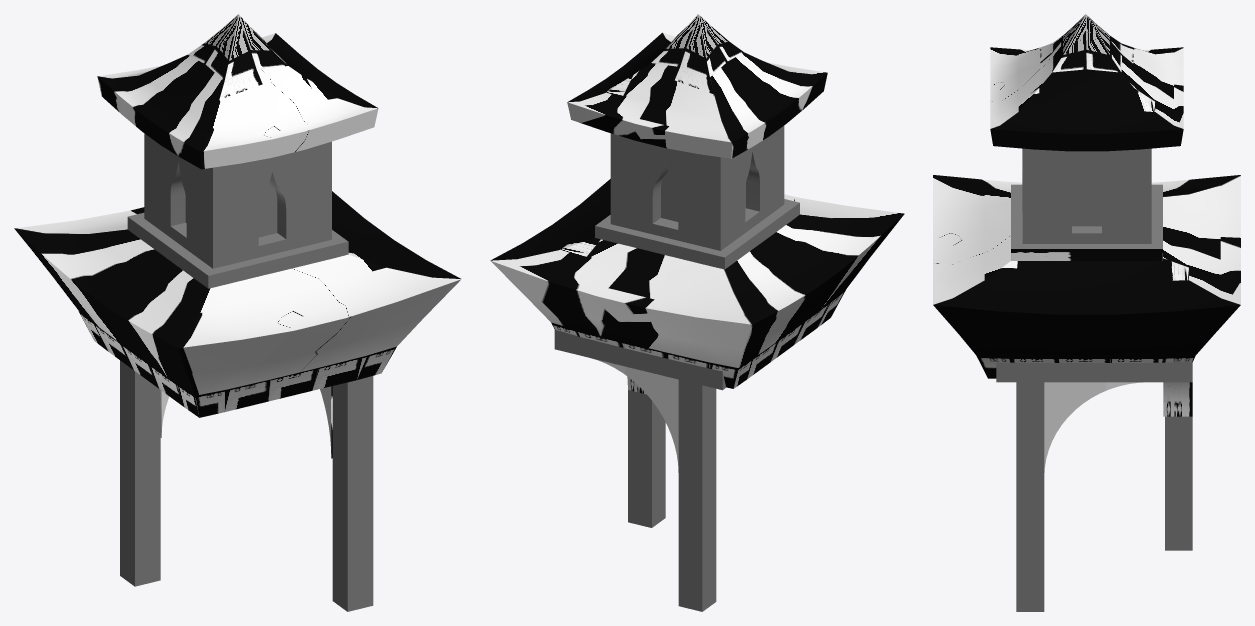
The model's file is Fixed roof.fbx.
The picture shows the model from 3 angles, left to right: view 1: azimuth 30°, elevation 25°; view 2: azimuth 150°, elevation 25°; view 3: azimuth 270°, elevation 25°; orthographic projection. The views are drawn at different scales.
Parts seen in each view (by area): view 1: ROOF (1), Arches_Arch_TopCurved_ThreeLegs (4), Arches_Arch_TopCurved_ThreeLegs (5); view 2: ROOF (1), Arches_Arch_TopCurved_ThreeLegs (5), Arches_Arch_TopCurved_ThreeLegs (4), Arches_Arch_TopCurved_ThreeLegs (7); view 3: ROOF (1), Arches_Arch_TopCurved_ThreeLegs (4), Arches_Arch_TopCurved_ThreeLegs (5), Arches_Arch_TopCurved_ThreeLegs (6), Arches_Arch_TopCurved_ThreeLegs (7).
Part boxes in pixels (<box>): ROOF (1): <box>14,14,461,417</box>; Arches_Arch_TopCurved_ThreeLegs (4): <box>332,376,373,611</box>; Arches_Arch_TopCurved_ThreeLegs (5): <box>120,360,160,586</box>; ROOF (1): <box>490,14,904,390</box>; Arches_Arch_TopCurved_ThreeLegs (5): <box>678,379,716,611</box>; Arches_Arch_TopCurved_ThreeLegs (4): <box>628,390,665,527</box>; Arches_Arch_TopCurved_ThreeLegs (7): <box>590,358,678,472</box>; ROOF (1): <box>933,14,1240,382</box>; Arches_Arch_TopCurved_ThreeLegs (4): <box>1016,382,1044,611</box>; Arches_Arch_TopCurved_ThreeLegs (5): <box>1165,416,1192,550</box>; Arches_Arch_TopCurved_ThreeLegs (6): <box>1044,382,1142,472</box>; Arches_Arch_TopCurved_ThreeLegs (7): <box>1163,382,1192,416</box>.
Size of the model in its own units: 2.92 by 5.79 by 2.92.
